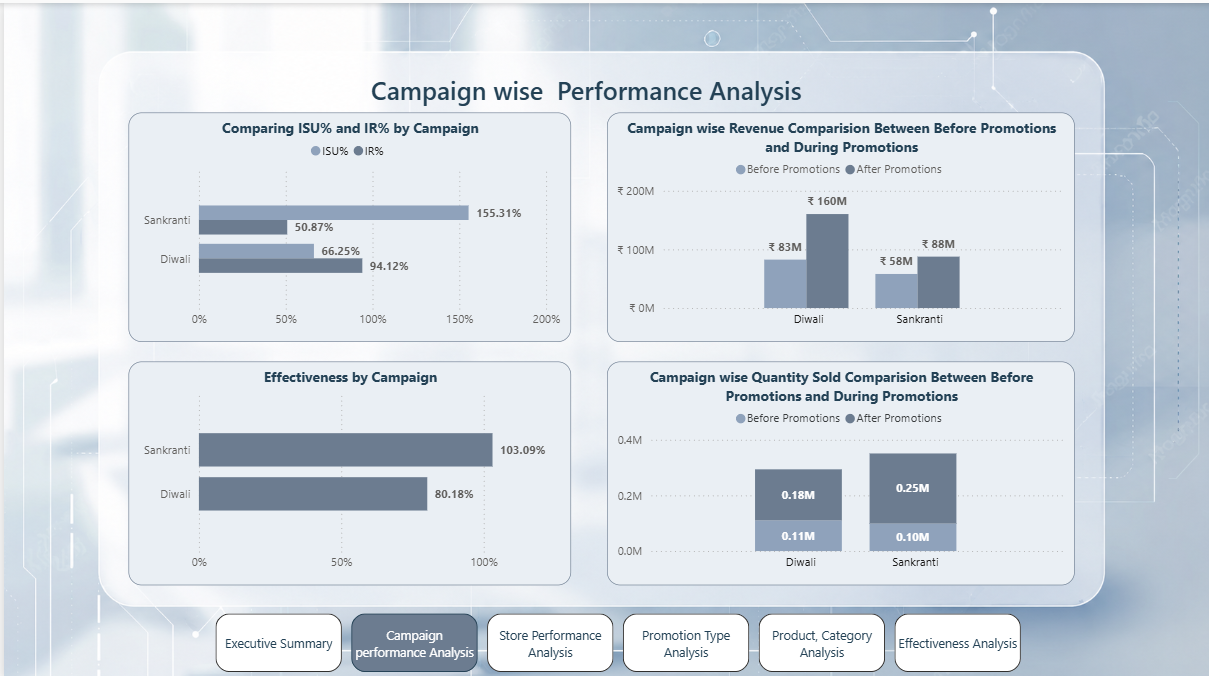

Layout of this report page (visuals, bound fields, positions):
{"tool":"powerbi","page":{"name":"Campaign performance Analysis","canvas":[1280,720],"ordinal":1},"visuals":[{"type":"textbox","box":[210,50.9,822.3,65.2],"z":0},{"type":"clusteredColumnChart","title":"Campaign wise Revenue Comparision Between Before Promotions and During Promotions","fields":{"Category":["DIM_CAMPAIGNS.CAMPAIGN_NAME"],"Y":["FACT_EVENTS.Total Revenue before prom","FACT_EVENTS.Total Revenue after prom"]},"box":[639.4,116.1,496.3,243.4],"z":1000},{"type":"columnChart","title":"Campaign wise Quantity Sold Comparision Between Before Promotions and During Promotions","fields":{"Category":["DIM_CAMPAIGNS.CAMPAIGN_NAME"],"Y":["FACT_EVENTS.Total Quantity sold before Prom","FACT_EVENTS.Total Quantity sold after prom"]},"box":[639.4,380.2,496.3,237],"z":2000},{"type":"pageNavigator","box":[225,647,854,62],"z":3000},{"type":"clusteredBarChart","title":"Comparing ISU% and IR% by Campaign","fields":{"Category":["DIM_CAMPAIGNS.CAMPAIGN_NAME"],"Y":["FACT_EVENTS.ISU%","FACT_EVENTS.IR%"]},"box":[132,116.1,469.2,243.4],"z":4000},{"type":"clusteredBarChart","title":"Effectiveness by Campaign","fields":{"Category":["DIM_CAMPAIGNS.CAMPAIGN_NAME"],"Y":["FACT_EVENTS.Overall Effectiveness"]},"box":[132,380.2,469.2,237],"z":5000}]}

Visuals, with their boxes in screenshot pixels (x1, y1, x2, y2), scaled from the page's 1280x720 canvas onto the 1209x676 screenshot:
textbox: box=[198, 48, 975, 109]
"Campaign wise Revenue Comparision Between Before Promotions and During Promotions" clusteredColumnChart: box=[604, 109, 1073, 338]
"Campaign wise Quantity Sold Comparision Between Before Promotions and During Promotions" columnChart: box=[604, 357, 1073, 579]
pageNavigator: box=[213, 607, 1019, 666]
"Comparing ISU% and IR% by Campaign" clusteredBarChart: box=[125, 109, 568, 338]
"Effectiveness by Campaign" clusteredBarChart: box=[125, 357, 568, 579]
